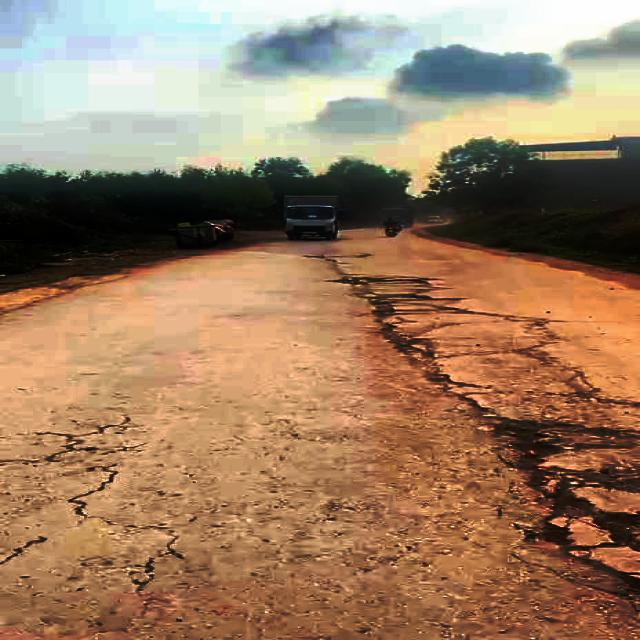pothole: (477, 414, 640, 585)
